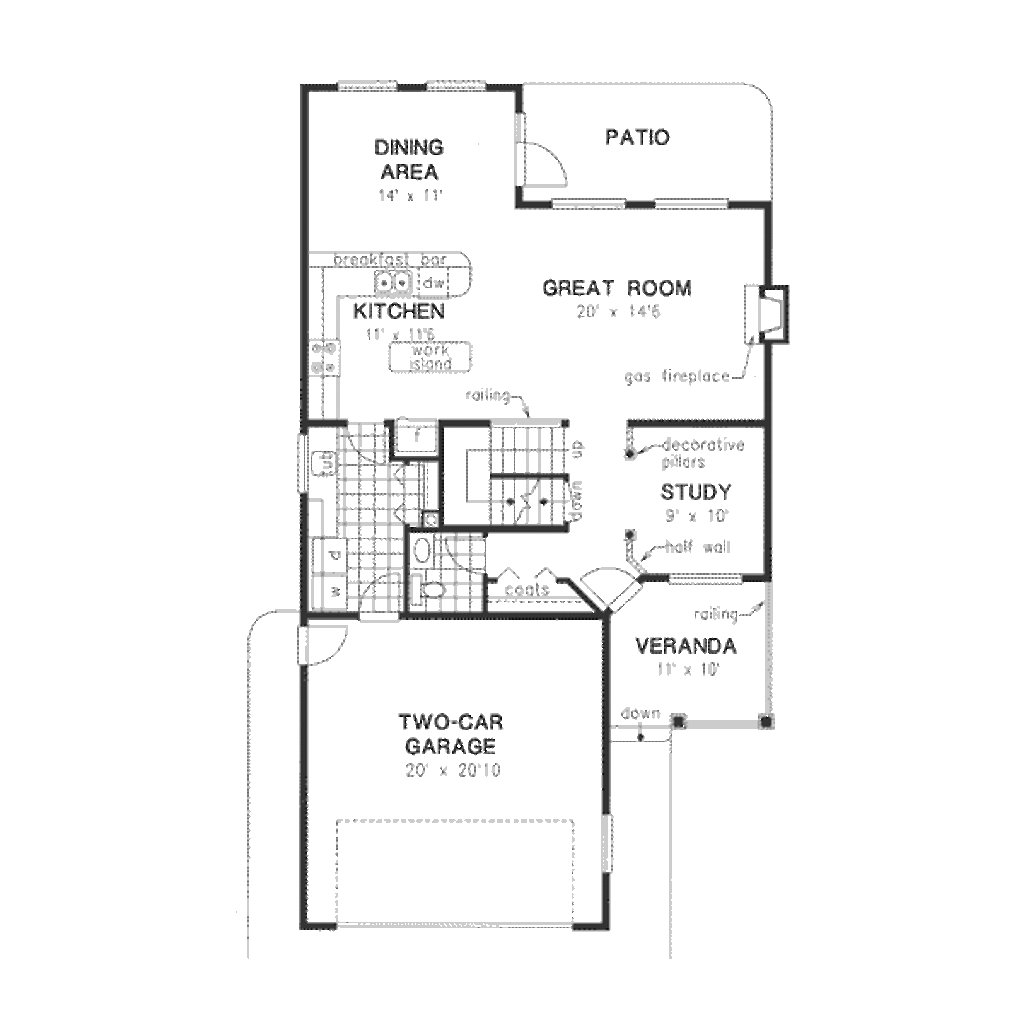door: (580, 558, 636, 614), (348, 573, 405, 627), (513, 141, 574, 187), (442, 532, 493, 582), (345, 424, 394, 471), (296, 627, 352, 665)
large_sink: (405, 578, 448, 614)
small_sink: (404, 532, 436, 576)
stairs: (437, 420, 586, 532)
twin_sink: (371, 258, 421, 301)
window: (650, 189, 729, 216), (547, 185, 629, 211), (334, 73, 404, 97), (667, 569, 740, 590), (421, 74, 485, 97), (294, 433, 312, 495)
